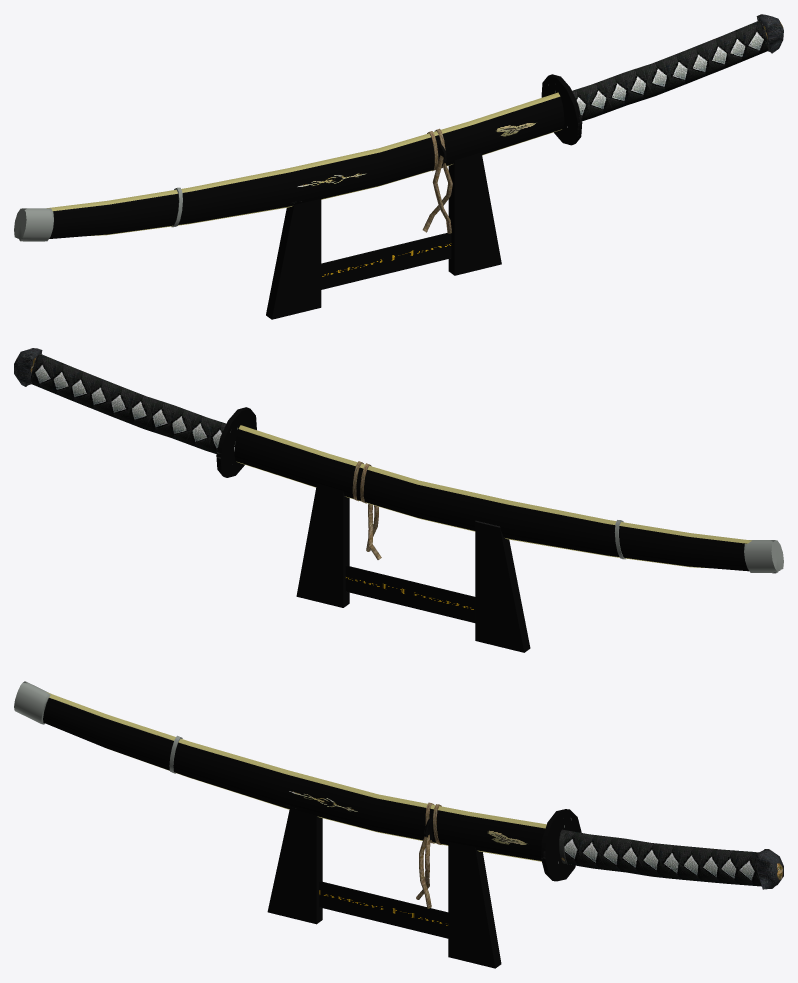
The model's file is Katana1.c.fbx.
3 renders of one model, top to bottom at view 1: azimuth 30°, elevation 25°; view 2: azimuth 150°, elevation 25°; view 3: azimuth 330°, elevation 25°, orthographic.
Parts seen in each view (by area): view 1: Group 0; view 2: Group 0; view 3: Group 0.
Boxes of the visible parts, x1,y1,x2,y2 form: Group 0: (14, 14, 783, 319); Group 0: (14, 348, 783, 652); Group 0: (14, 681, 783, 968).
Size of the model in its own units: 186 by 41.69 by 15.4.
1 material, 1 textured.
